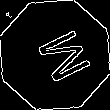M_SW: (23, 23, 87, 87)
